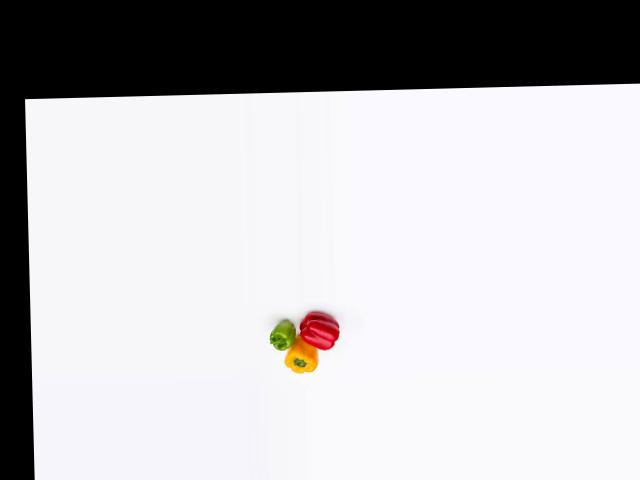bell_pepper: (262, 318, 297, 353)
